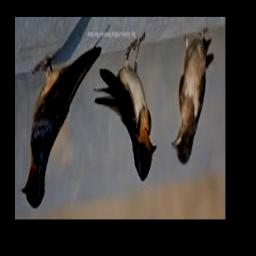Swallow: (21, 47, 102, 208), (94, 33, 157, 181), (172, 36, 214, 163)
